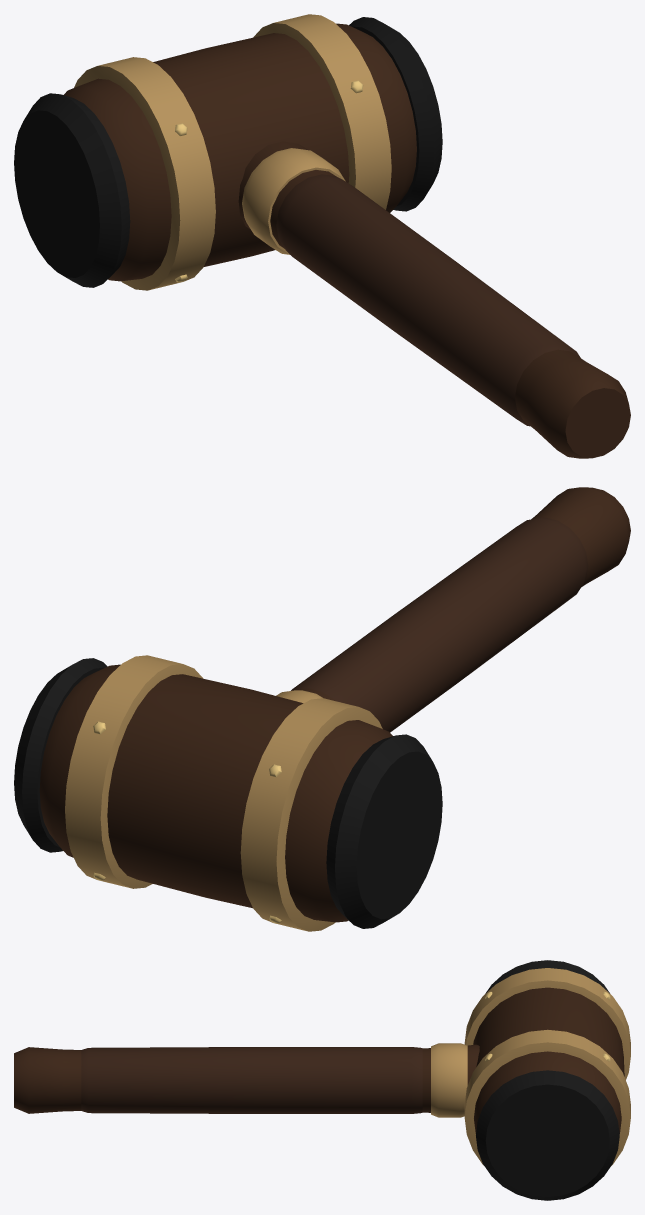
Rendered from mallet.glb.
3 renders of one model, top to bottom at view 1: azimuth 30°, elevation 25°; view 2: azimuth 150°, elevation 25°; view 3: azimuth 270°, elevation 25°, orthographic. The views are drawn at different scales.
Parts seen in each view (by area): view 1: head, grip, face-1, band-1, handle, band1, face1, ferrule; view 2: head, grip, face-1, band-1, band1, face1, handle; view 3: grip, face1, head, handle, band1, band-1, ferrule, face-1.
Boxes of the visible parts, x1=… form: head: x1=64, y1=23, x2=416, y2=281; grip: x1=276, y1=174, x2=580, y2=426; face-1: x1=14, y1=93, x2=130, y2=287; band-1: x1=74, y1=57, x2=215, y2=290; handle: x1=238, y1=141, x2=630, y2=458; band1: x1=253, y1=14, x2=391, y2=209; face1: x1=349, y1=17, x2=442, y2=211; ferrule: x1=242, y1=148, x2=345, y2=254; head: x1=39, y1=664, x2=392, y2=922; grip: x1=291, y1=517, x2=588, y2=732; face-1: x1=326, y1=734, x2=442, y2=928; band-1: x1=240, y1=698, x2=382, y2=931; band1: x1=65, y1=655, x2=203, y2=888; face1: x1=14, y1=658, x2=107, y2=852; handle: x1=296, y1=487, x2=630, y2=701; grip: x1=81, y1=1047, x2=422, y2=1113; face1: x1=476, y1=1070, x2=619, y2=1200; head: x1=473, y1=987, x2=624, y2=1133; handle: x1=14, y1=1044, x2=479, y2=1113; band1: x1=464, y1=1029, x2=630, y2=1165; band-1: x1=464, y1=968, x2=630, y2=1079; ferrule: x1=431, y1=1043, x2=467, y2=1117; face-1: x1=485, y1=960, x2=609, y2=993.
Size of the model in its own units: 0.115 by 0.067 by 0.2485.
